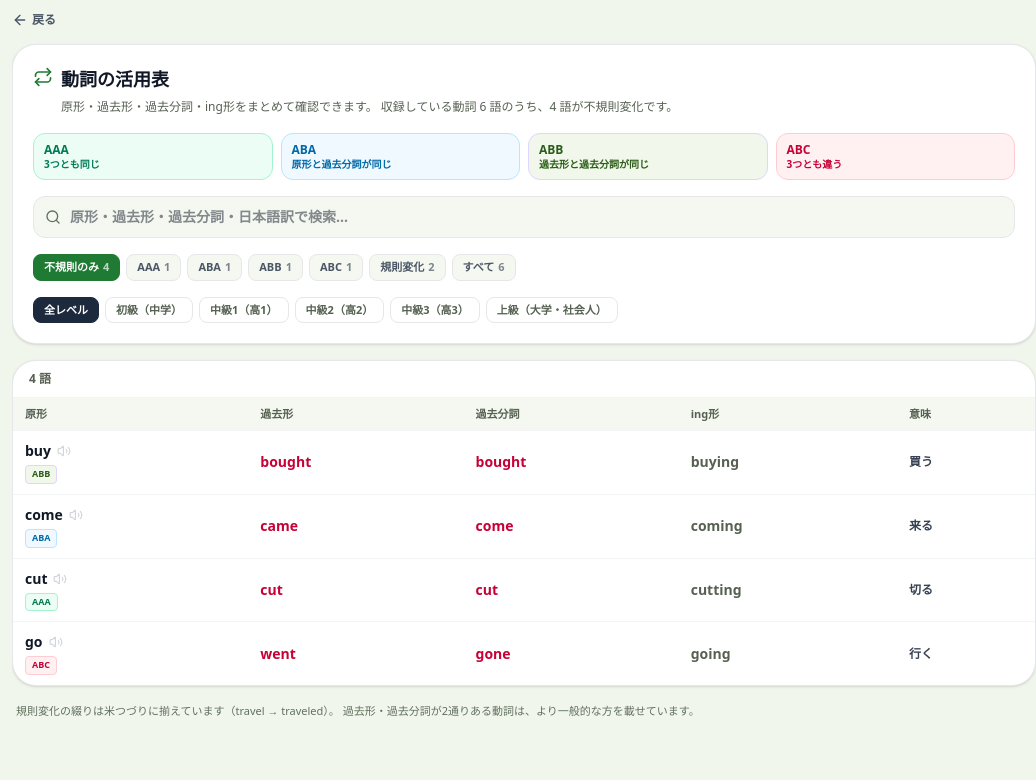
絞り込み › 条件に合う語が無ければその旨を伝える
In the field named "動詞を検索": (524, 217) [33,196,1015,238], type "存在しない語"
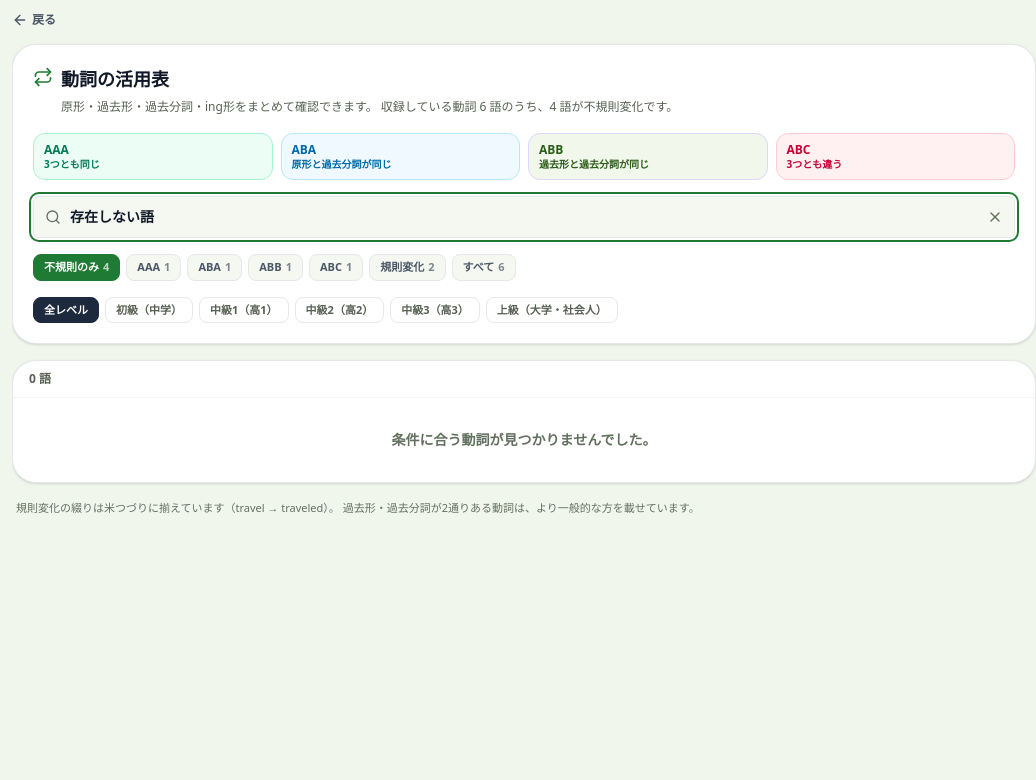
Now the text "条件に合う動詞が見つかりませんでした。" is shown, box [392,430,656,449]
Now the table is gone
